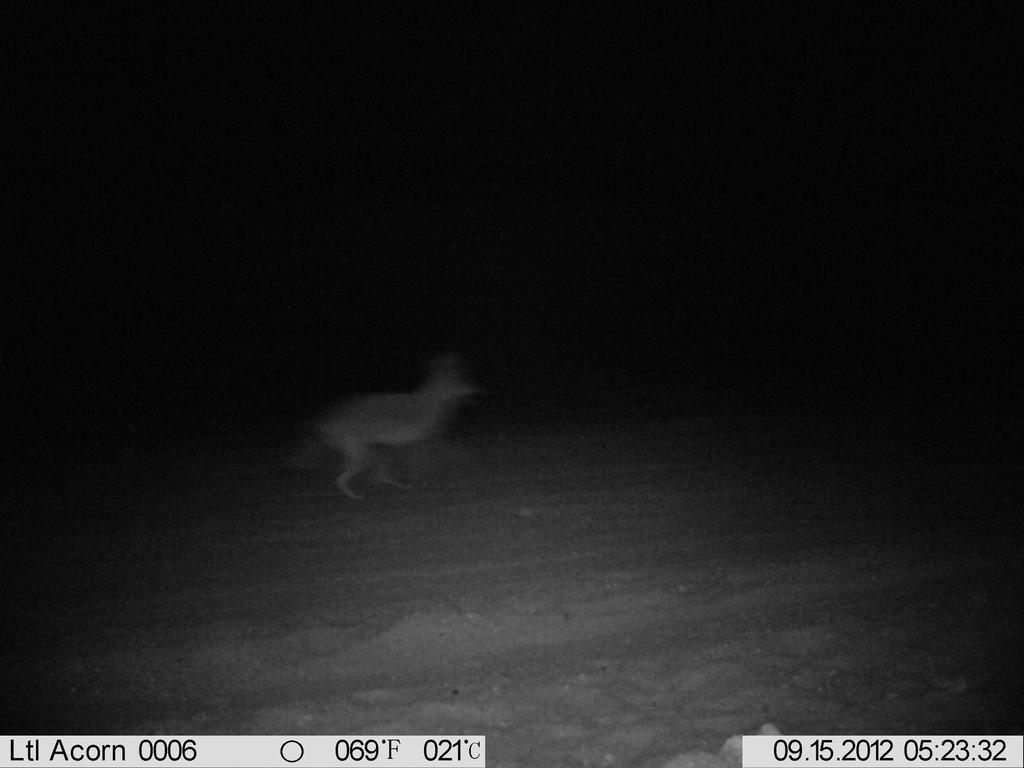coyote: (289, 341, 524, 503)
